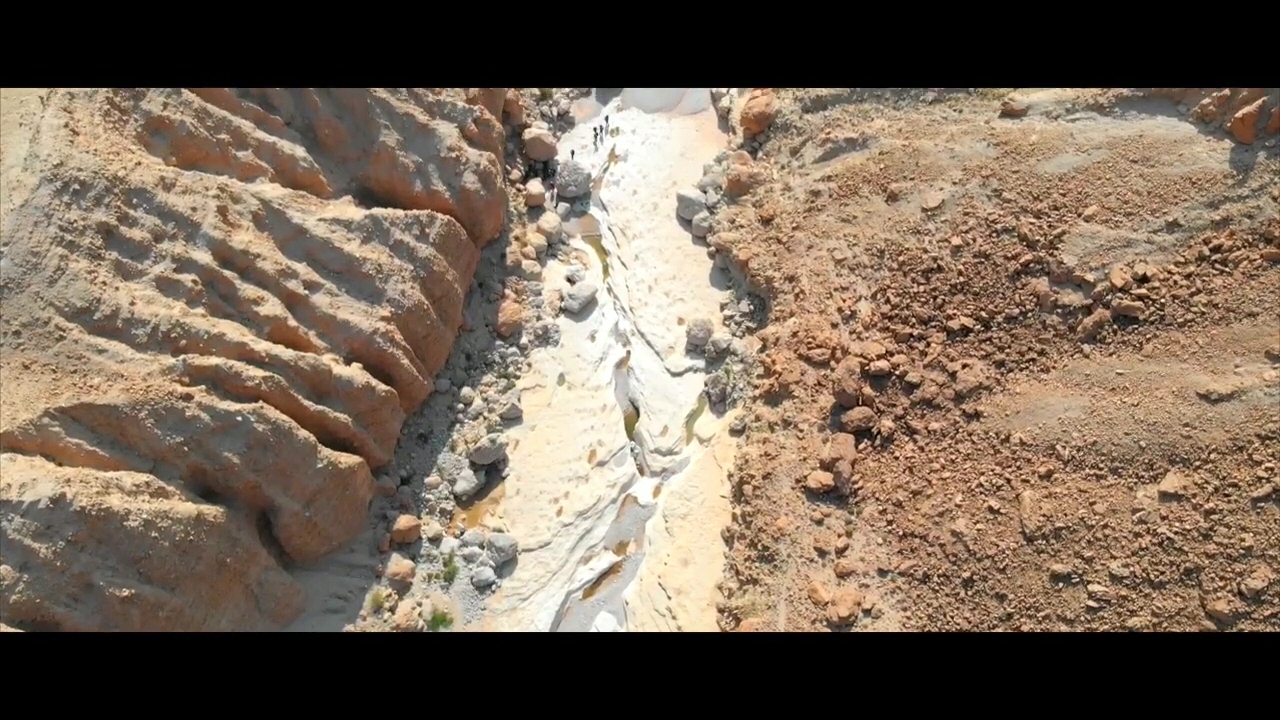insan: (548, 177, 556, 194), (568, 148, 575, 161), (597, 124, 604, 137), (604, 114, 611, 126)
